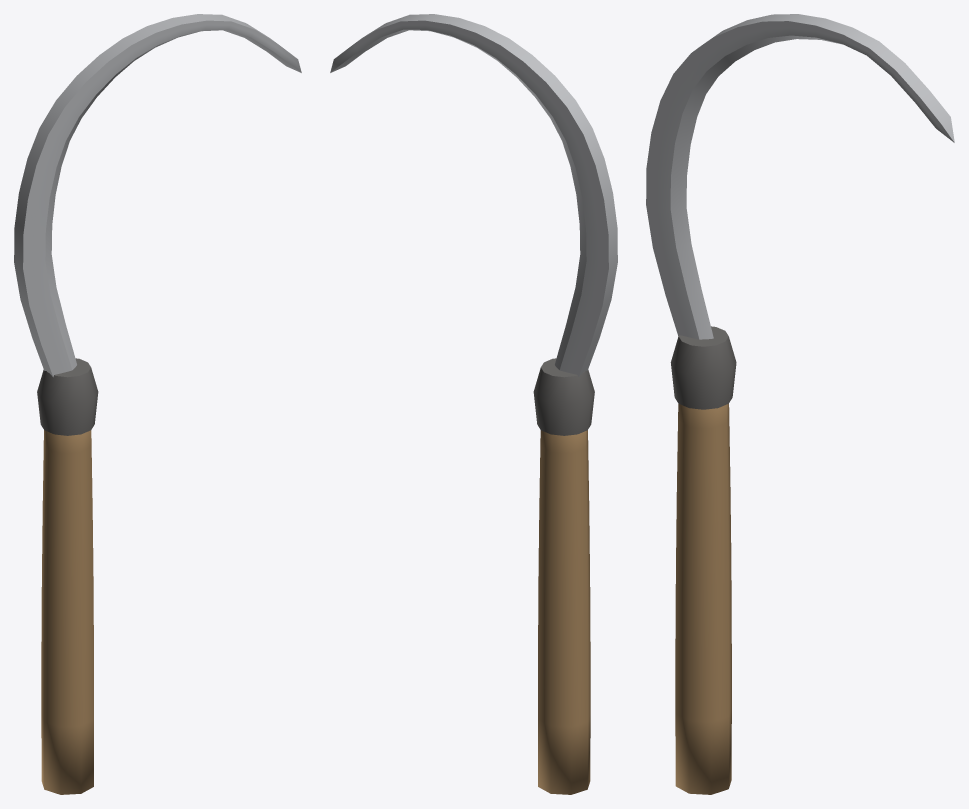
The model's file is sickle.glb.
The picture shows the model from 3 angles, left to right: view 1: azimuth 30°, elevation 25°; view 2: azimuth 150°, elevation 25°; view 3: azimuth 330°, elevation 25°; orthographic projection. The views are drawn at different scales.
Parts seen in each view (by area): view 1: sickle; view 2: sickle; view 3: sickle.
Boxes of the visible parts, x1=… form: sickle: x1=14, y1=14, x2=301, y2=794; sickle: x1=330, y1=14, x2=617, y2=794; sickle: x1=646, y1=14, x2=954, y2=794.
Size of the model in its own units: 0.363 by 0.9011 by 0.068.
